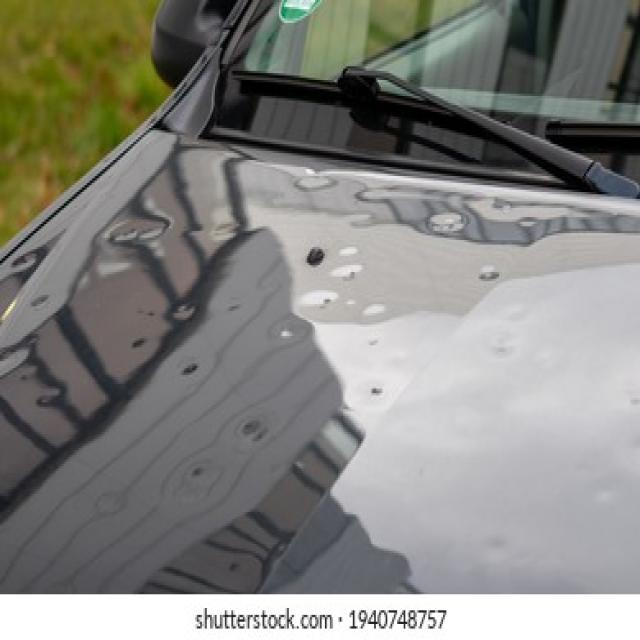dent: (100, 160, 640, 564)
